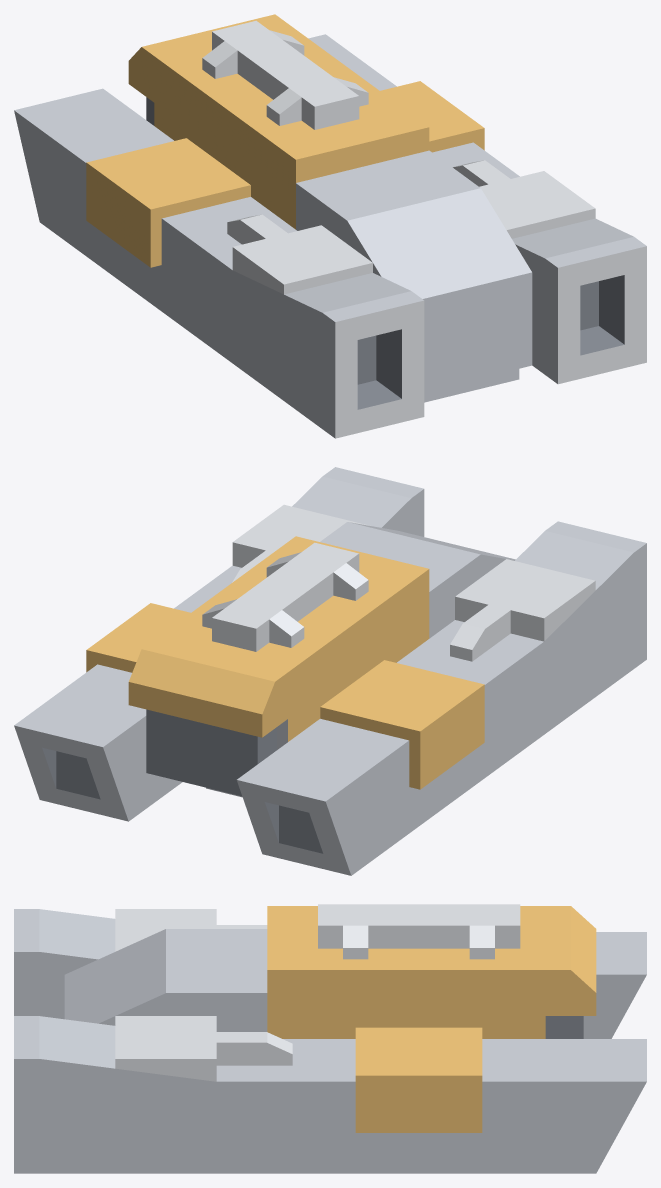
The model's file is craft_cargoB.glb.
3 views of the same model, one above another, from view 1: azimuth 30°, elevation 25°; view 2: azimuth 150°, elevation 25°; view 3: azimuth 270°, elevation 25° (orthographic).
Parts seen in each view (by area): view 1: craft_cargoB; view 2: craft_cargoB; view 3: craft_cargoB.
Boxes of the visible parts, x1,y1,x2,y2 form: craft_cargoB: (14, 14, 646, 438); craft_cargoB: (14, 467, 646, 875); craft_cargoB: (14, 904, 646, 1173).
Size of the model in its own units: 1.5 by 0.9 by 2.5.
